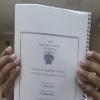notebook: (12, 2, 93, 99)
